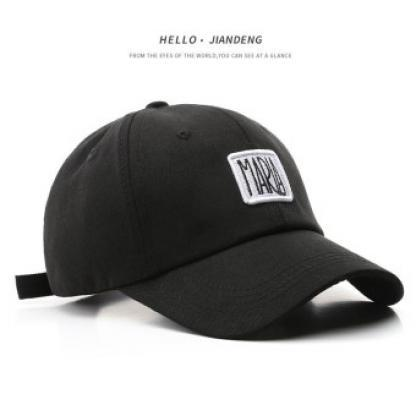cap: (28, 96, 410, 346)
